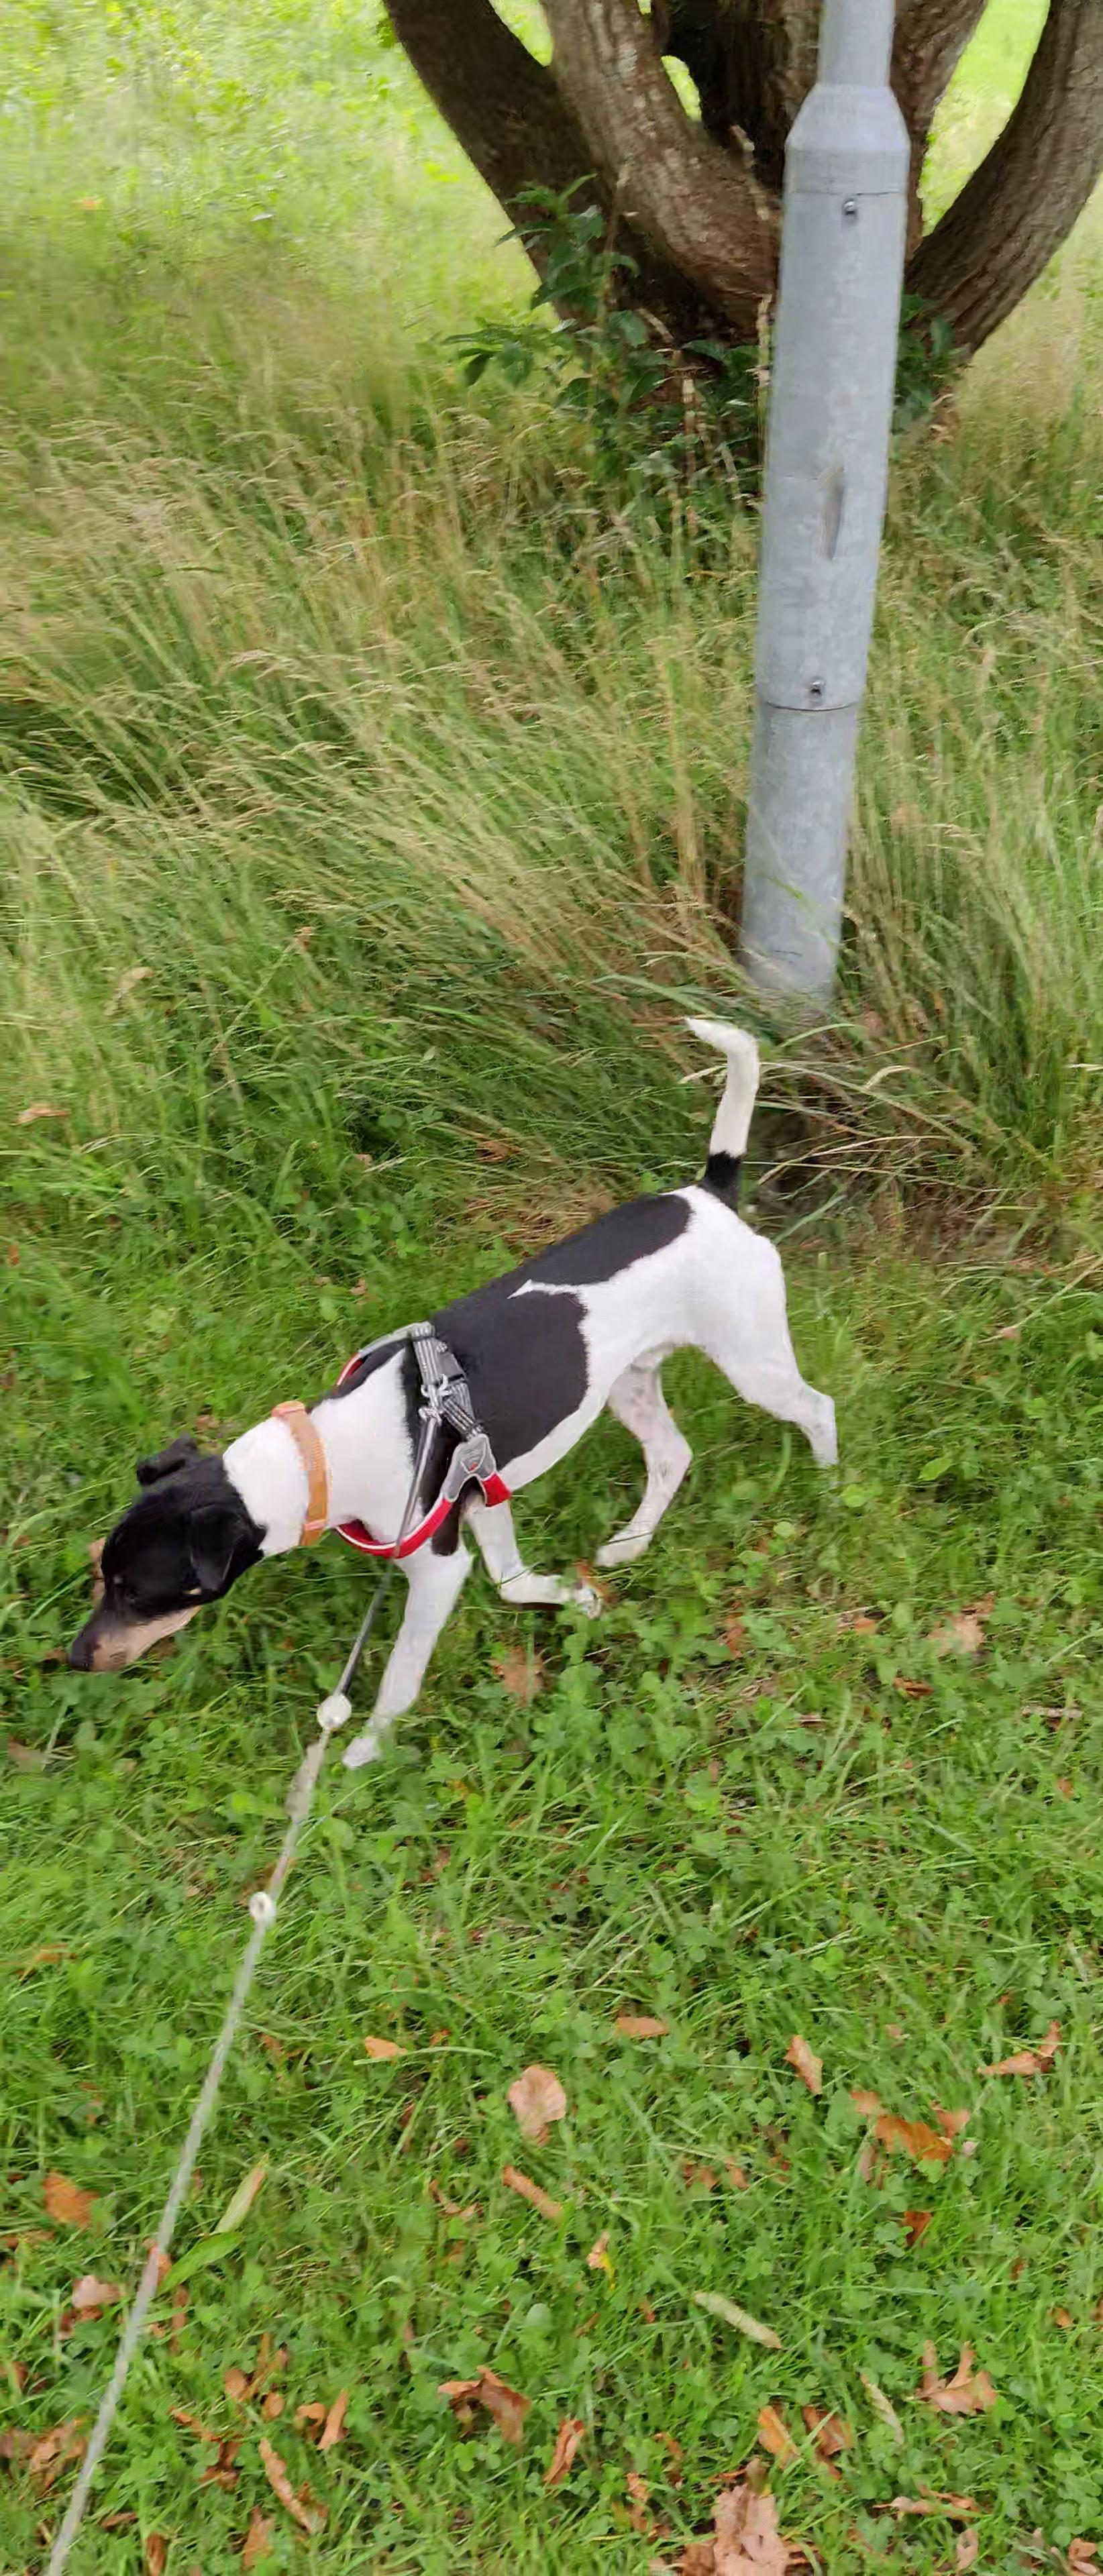Dog: (58, 1012, 845, 1774)
